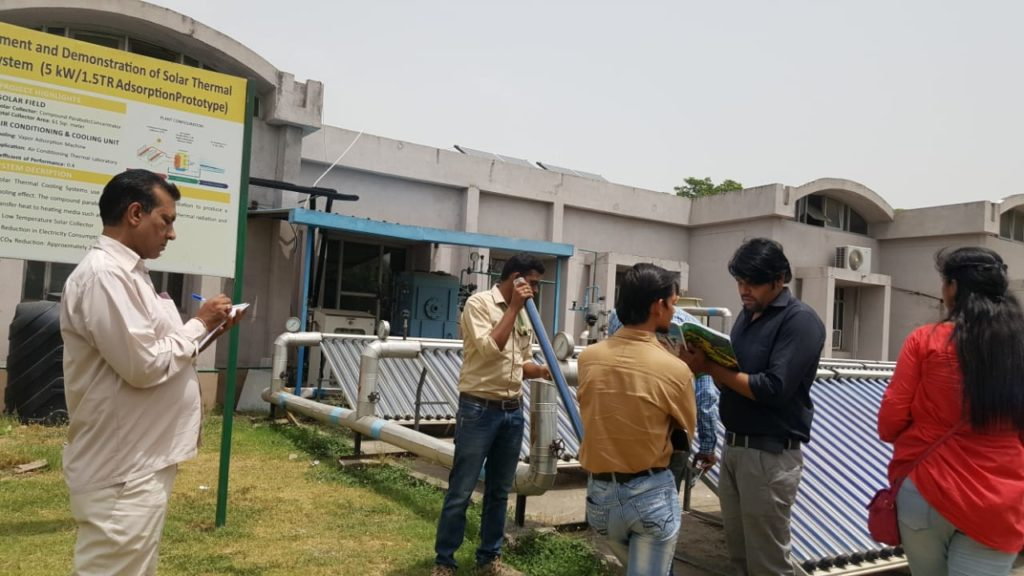noepi: (61, 162, 244, 576), (872, 241, 1024, 571), (693, 237, 821, 576), (577, 259, 703, 570), (439, 250, 549, 576)
